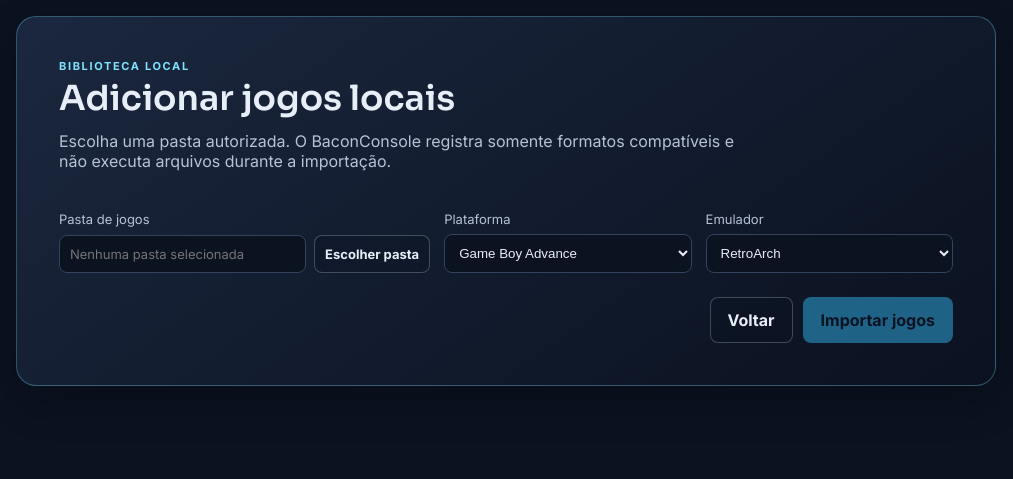
Test: LocalImportPanel › imports a selected folder with a compatible managed profile
Click the button "Escolher pasta".
click(372, 254)  # box x1=314 y1=235 x2=430 y2=273
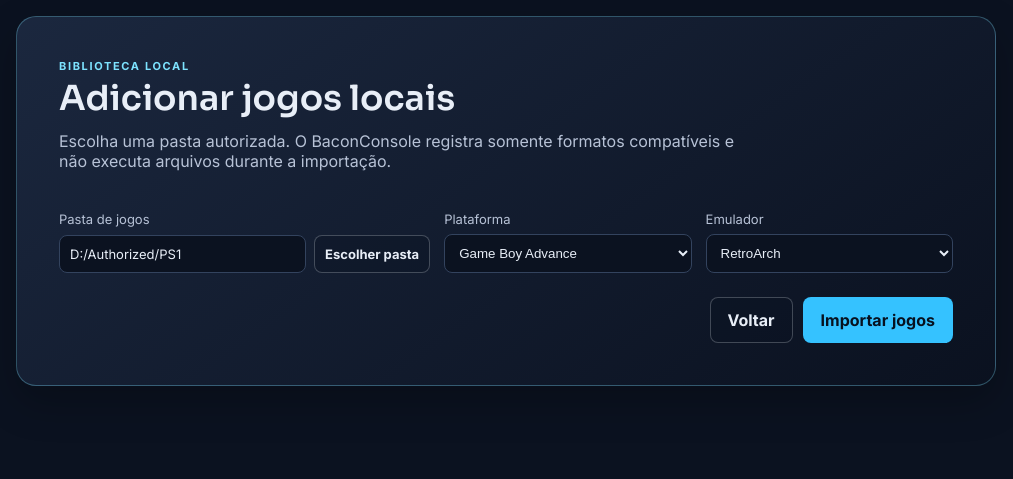
expect the field showing "D:/Authorized/PS1" is shown: met, box x1=59 y1=235 x2=306 y2=273
Select "PS1" in the dropdown labelled "Plataforma" at (568,254), box x1=444 y1=234 x2=692 y2=273
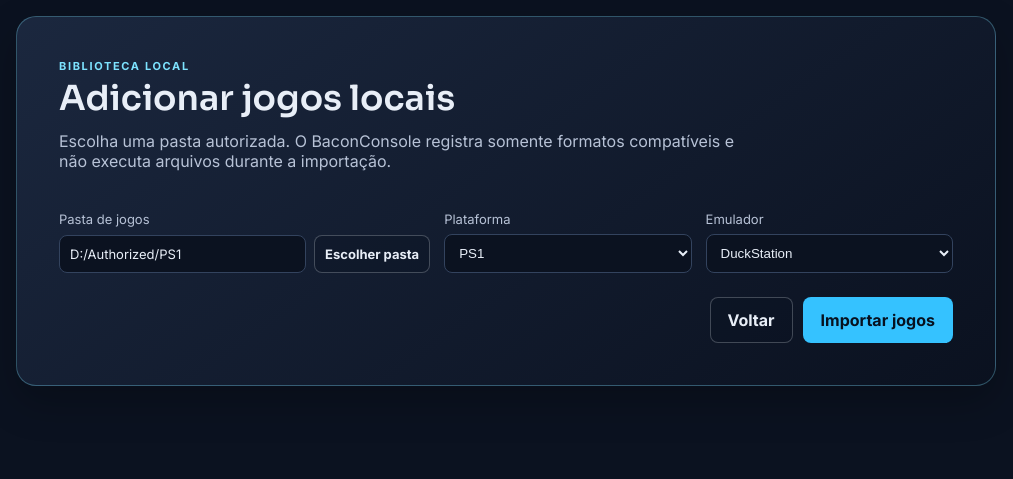
Click the button "Importar jogos".
click(878, 320)  # box x1=803 y1=297 x2=953 y2=343
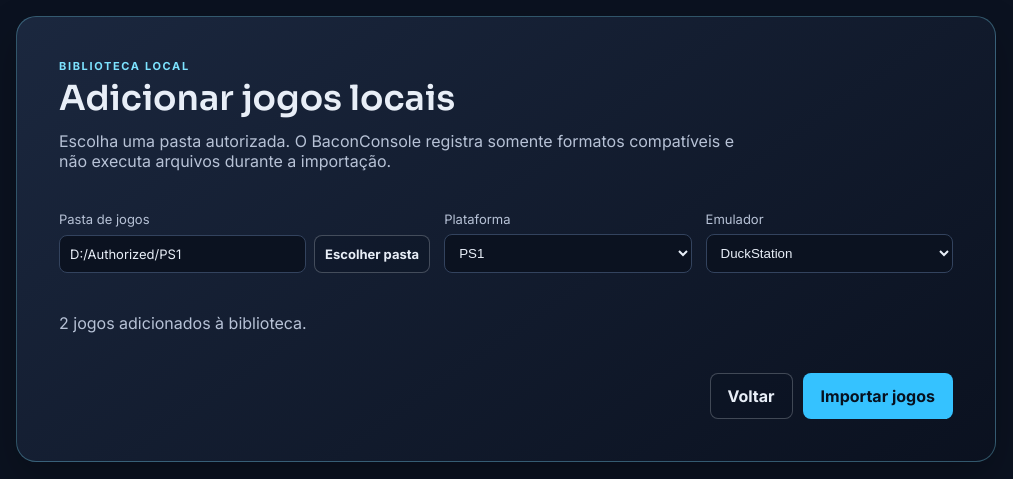
expect the text "2 jogos adicionados à biblioteca." is shown: met, box x1=59 y1=313 x2=307 y2=333
